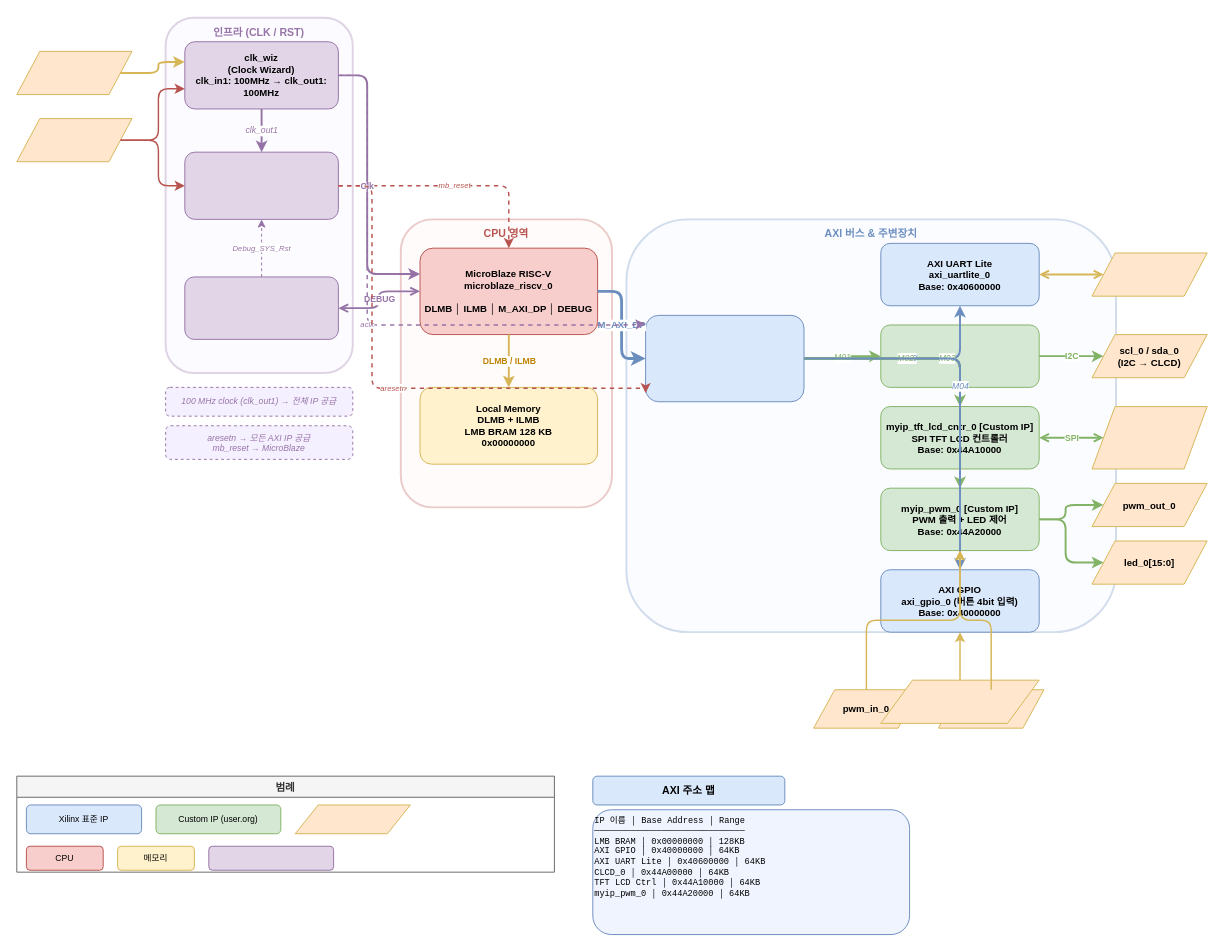
Some shapes in this 1224 by 951 pixel diagram are drawn without their labels. Each missing label, with the centre of its shape:
"AXI SmartConnect 1 Master → 5 Slaves S00 ← CPU M_AXI_DP" belongs at (x=724, y=358).
"CLCD_0 [Custom IP] I2C LCD 컨트롤러 Base: 0x44A00000" belongs at (x=959, y=355).
"mdm_1 (RISC-V Debug Module) JTAG 디버그" belongs at (x=261, y=307).
"proc_sys_reset_0 (System Reset) ext_reset → mb_reset / aresetn" belongs at (x=261, y=185).
"push_buttons_4bits [3:0]" belongs at (x=959, y=701).
"reset (ACTIVE_HIGH)" belongs at (x=74, y=140).
"sys_clock 100 MHz" belongs at (x=74, y=72).
"tft_cs / tft_dc tft_reset / tft_sck tft_sdi ↔ tft_sdo (SPI → TFT LCD)" belongs at (x=1149, y=437).
"USB UART TxD / RxD" belongs at (x=1149, y=274).
"외부 포트 (I/O)" belongs at (x=352, y=819).
"인프라 (CLK/RST)" belongs at (x=271, y=857).
